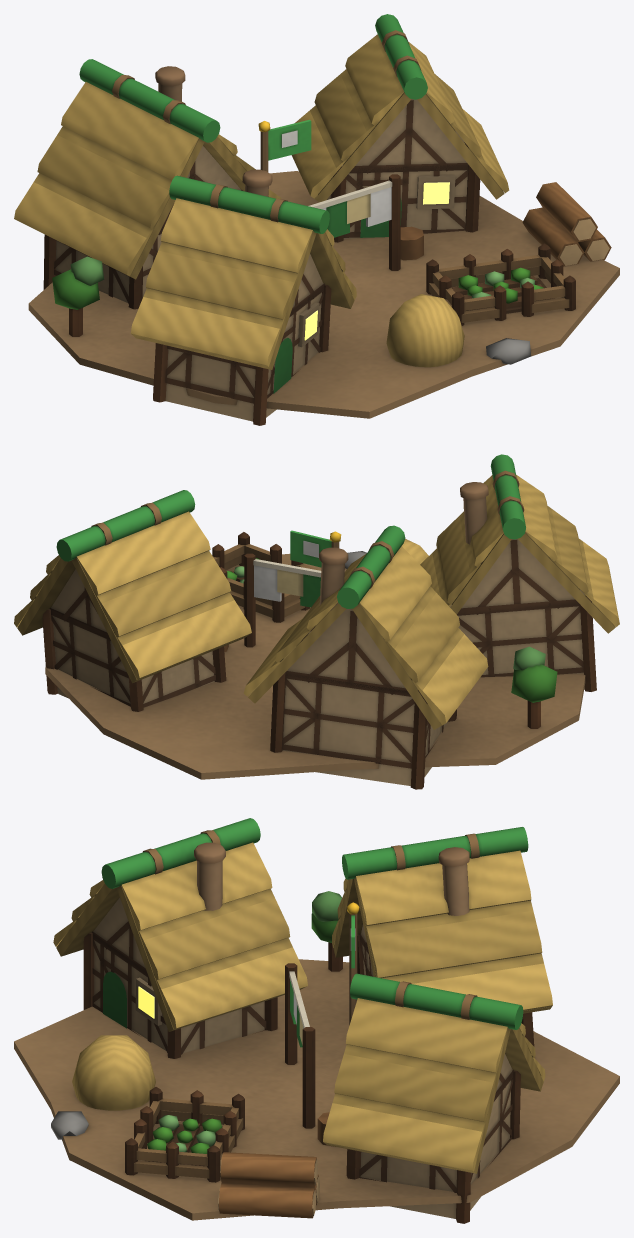
The model's file is city_dl1_green.glb.
3 views of the same model, one above another, from view 1: azimuth 30°, elevation 25°; view 2: azimuth 150°, elevation 25°; view 3: azimuth 270°, elevation 25° (orthographic). The views are drawn at different scales.
Parts seen in each view (by area): view 1: city_dl1_green; view 2: city_dl1_green; view 3: city_dl1_green.
Part boxes in pixels (bbox=[...]): city_dl1_green: bbox=[14, 14, 619, 425]; city_dl1_green: bbox=[14, 454, 619, 789]; city_dl1_green: bbox=[14, 818, 619, 1223].
Size of the model in its own units: 1.4 by 0.5666 by 1.37.
Materials: 2 (1 with a texture image).
